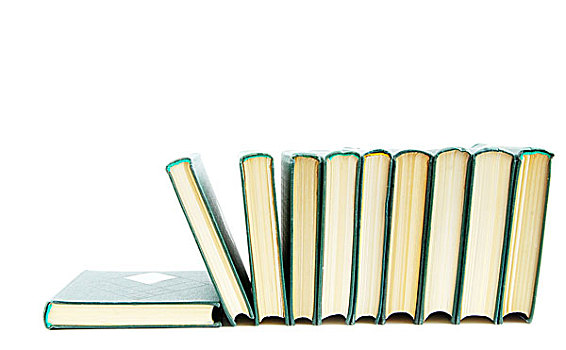book: (168, 145, 245, 331), (41, 265, 232, 330), (500, 152, 552, 320), (229, 155, 280, 321), (464, 150, 509, 323), (276, 154, 319, 334), (392, 144, 427, 329), (430, 143, 463, 323), (358, 146, 391, 322), (320, 147, 352, 324)
